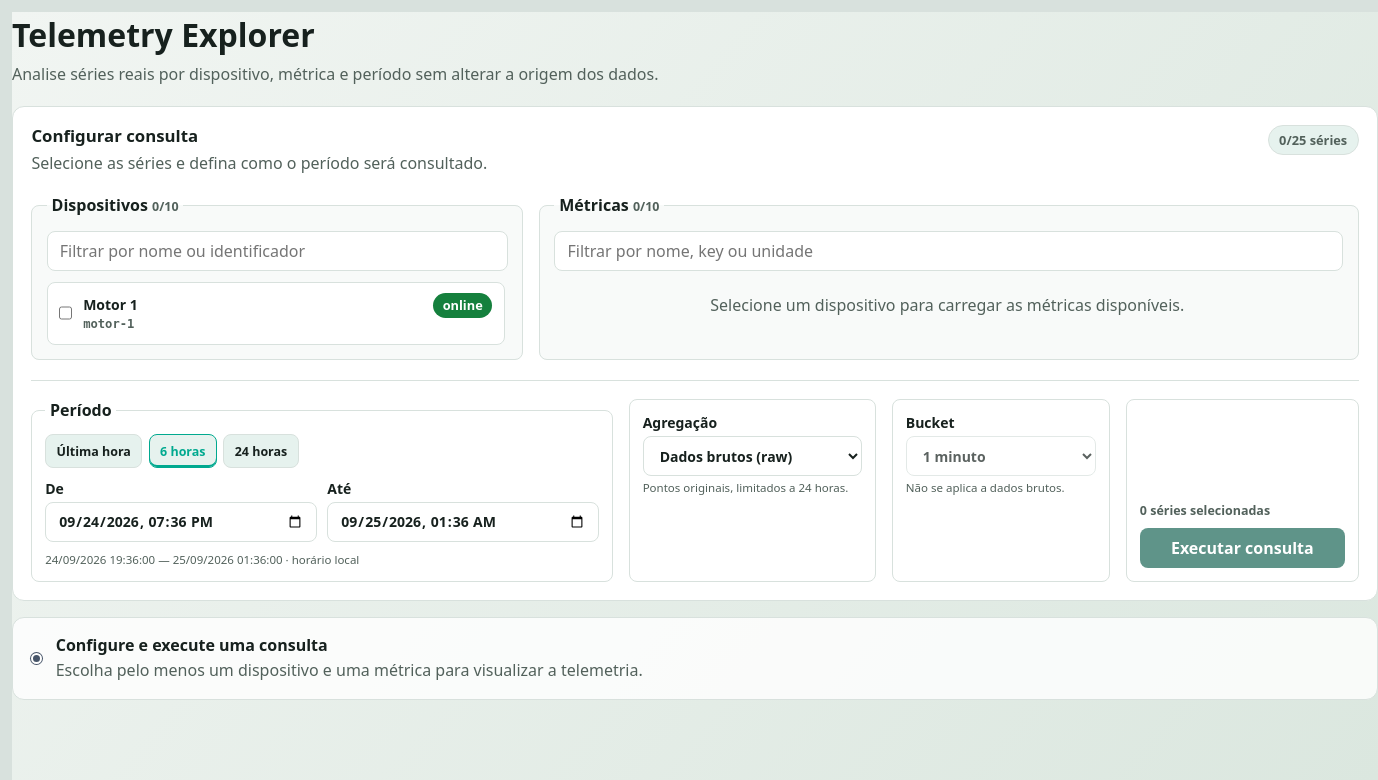
Test: TelemetryExplorerPage › apresenta nome, identificador, estado e metadata das opções
The width and height of the screenshot is (1378, 780).
Expected: the text "motor-1" is shown, [83, 317, 134, 331]
Expected: the text "online" is shown, [433, 293, 492, 318]
Step 1. Click the checkbox named "Selecionar dispositivo Motor 1" → (66, 313), box [59, 293, 72, 333]
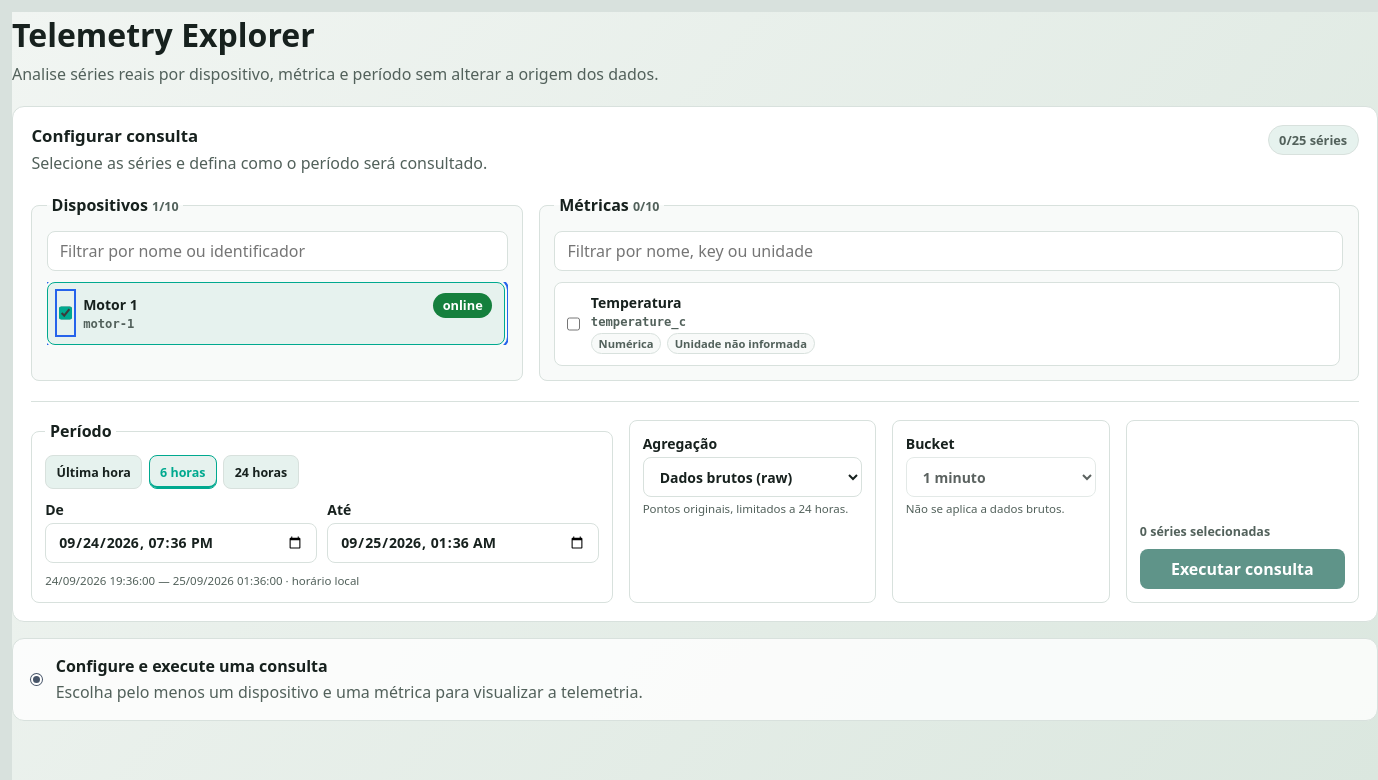
Expected: the text "temperature_c" is shown, [591, 315, 686, 329]
Expected: the text "Unidade não informada" is shown, [667, 332, 815, 354]
